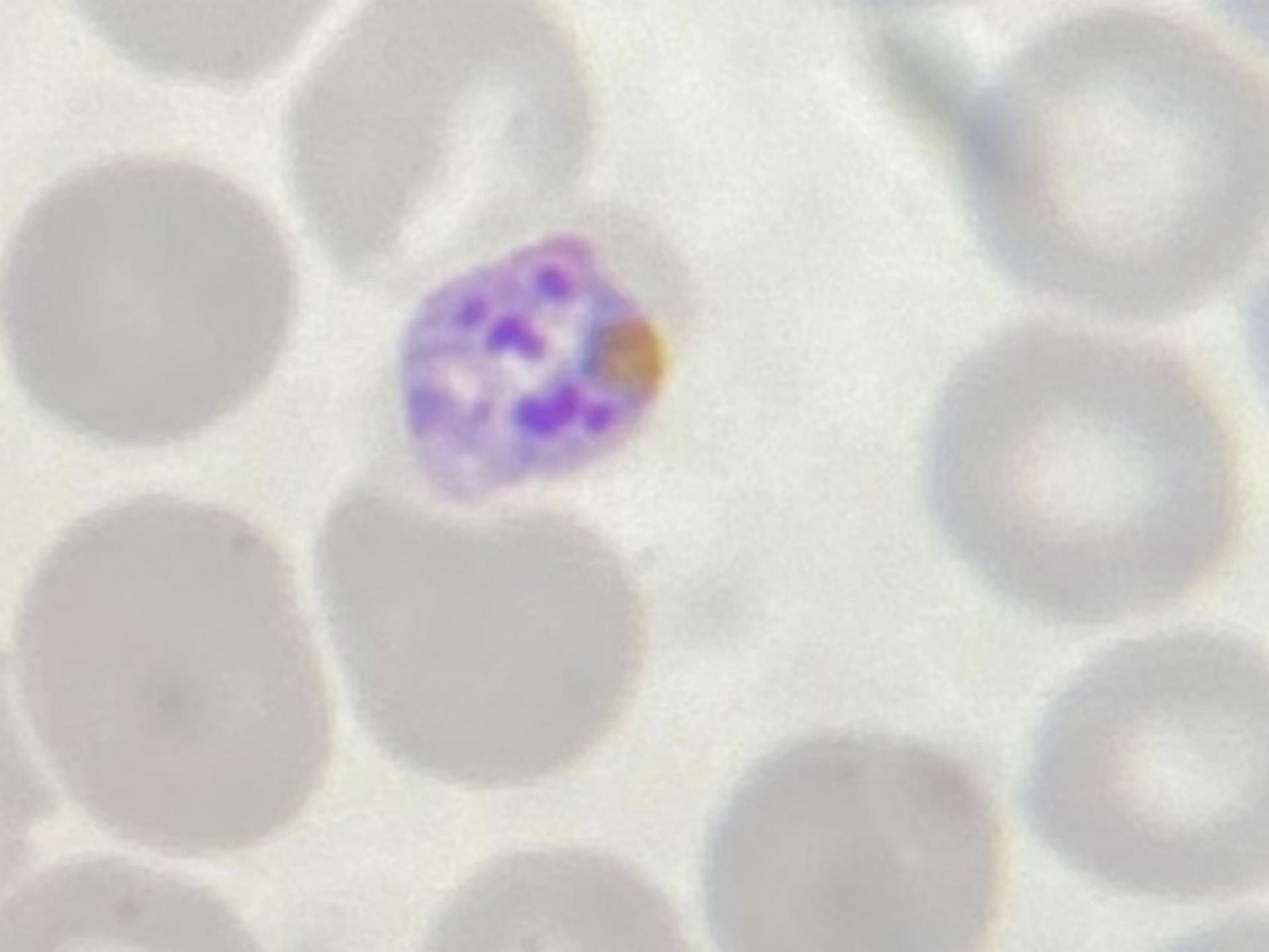Infected: (379, 201, 687, 513)
Uninfected: (11, 496, 335, 867), (925, 316, 1244, 626), (317, 487, 640, 789), (954, 3, 1269, 309), (0, 153, 297, 448), (282, 3, 585, 281), (696, 732, 1006, 952), (1020, 633, 1269, 899)
